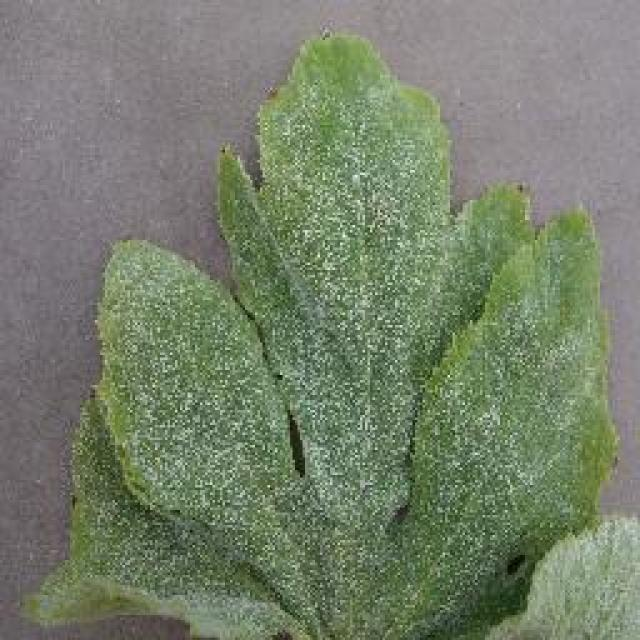Squ_Powdery_mildew: (137, 172, 556, 604)
